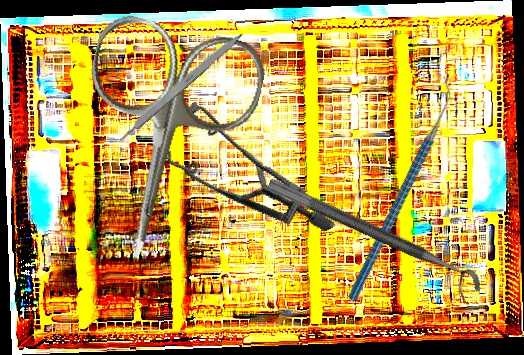Chopper: (285, 75, 513, 303)
Fixation Ring: (257, 176, 487, 308)
Iris Scissors: (53, 9, 271, 274)
Scalpel Handle: (113, 28, 246, 145)
Speculum: (142, 70, 336, 283)
